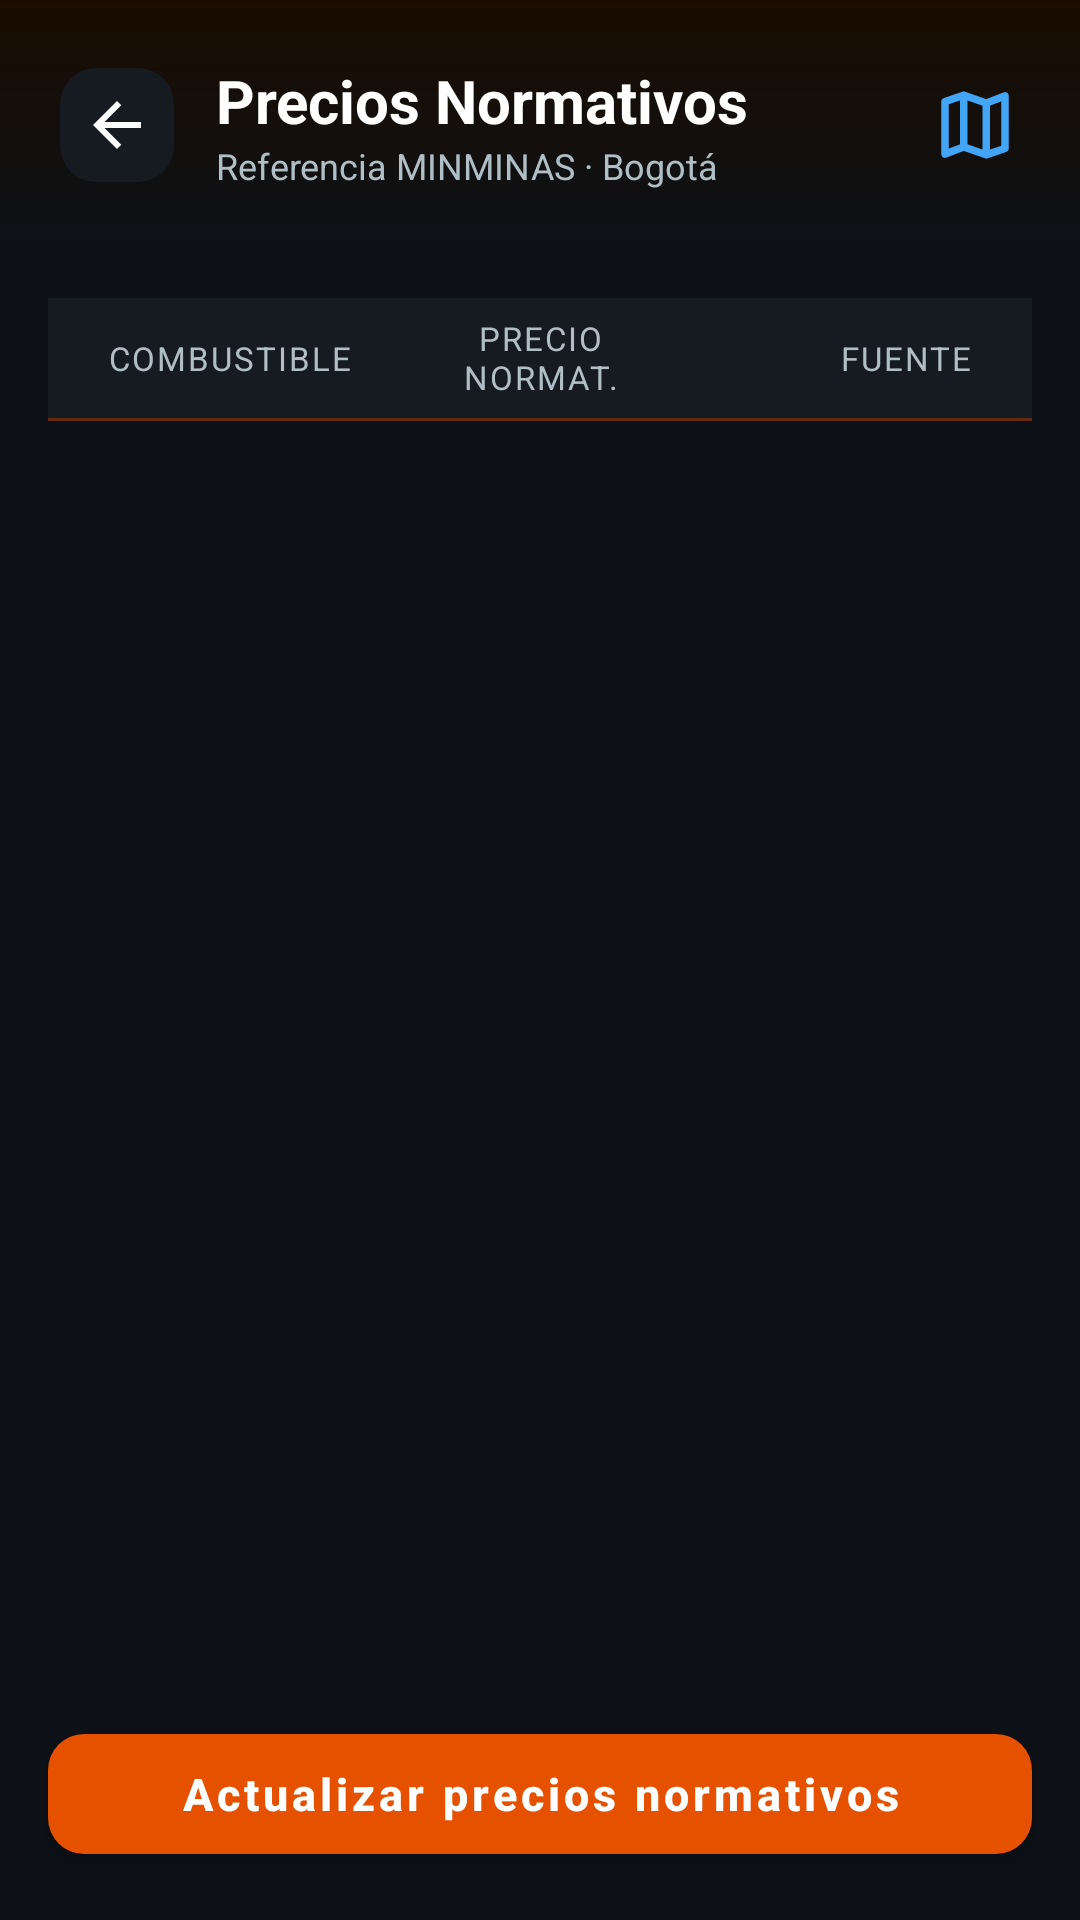

Icon bounding boxes for this 1080w x 1920h phone screenshot, format detection(x1, y1, x2, y2):
Volver: detection(60, 68, 174, 182)
